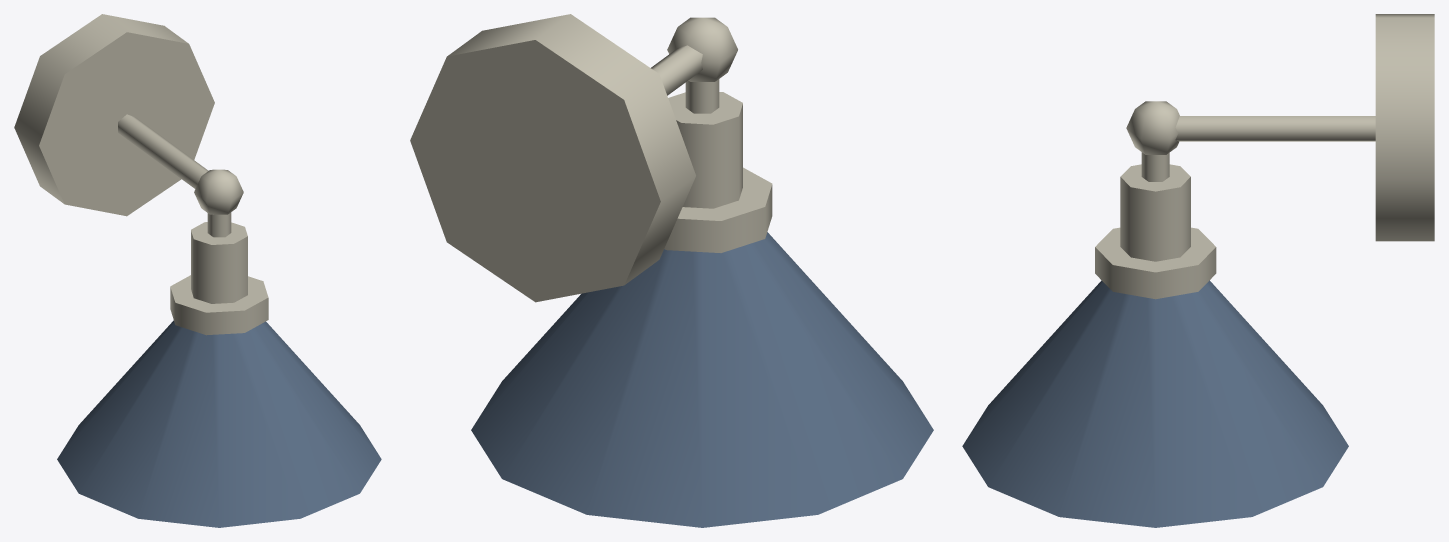
The model's file is WallLamp_01.fbx.
The picture shows the model from 3 angles, left to right: view 1: azimuth 30°, elevation 25°; view 2: azimuth 150°, elevation 25°; view 3: azimuth 270°, elevation 25°; orthographic projection. The views are drawn at different scales.
Visible parts, largest first — view 1: WallLamp_01; view 2: WallLamp_01; view 3: WallLamp_01.
Part boxes in pixels (x1,y1,x2,y2): WallLamp_01: [14, 14, 381, 527]; WallLamp_01: [410, 14, 933, 527]; WallLamp_01: [962, 14, 1434, 527].
Size of the model in its own units: 0.2509 by 0.3065 by 0.3064.
